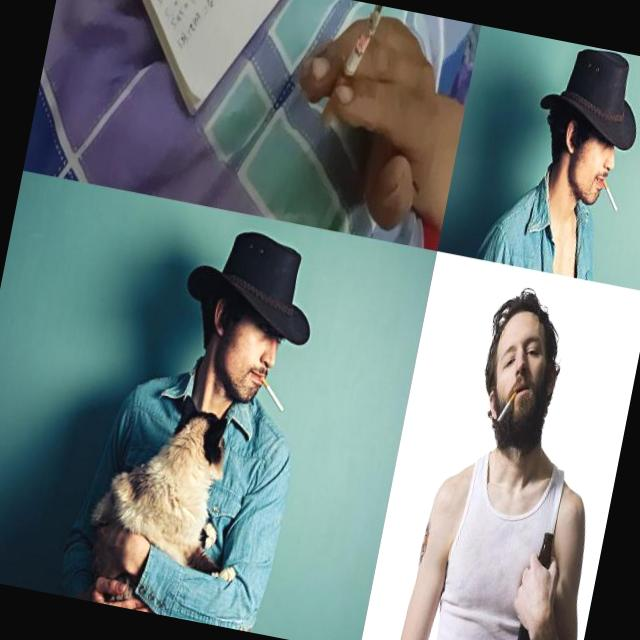smoke: (318, 0, 386, 136), (254, 376, 292, 414), (595, 173, 626, 214), (495, 388, 518, 428)
